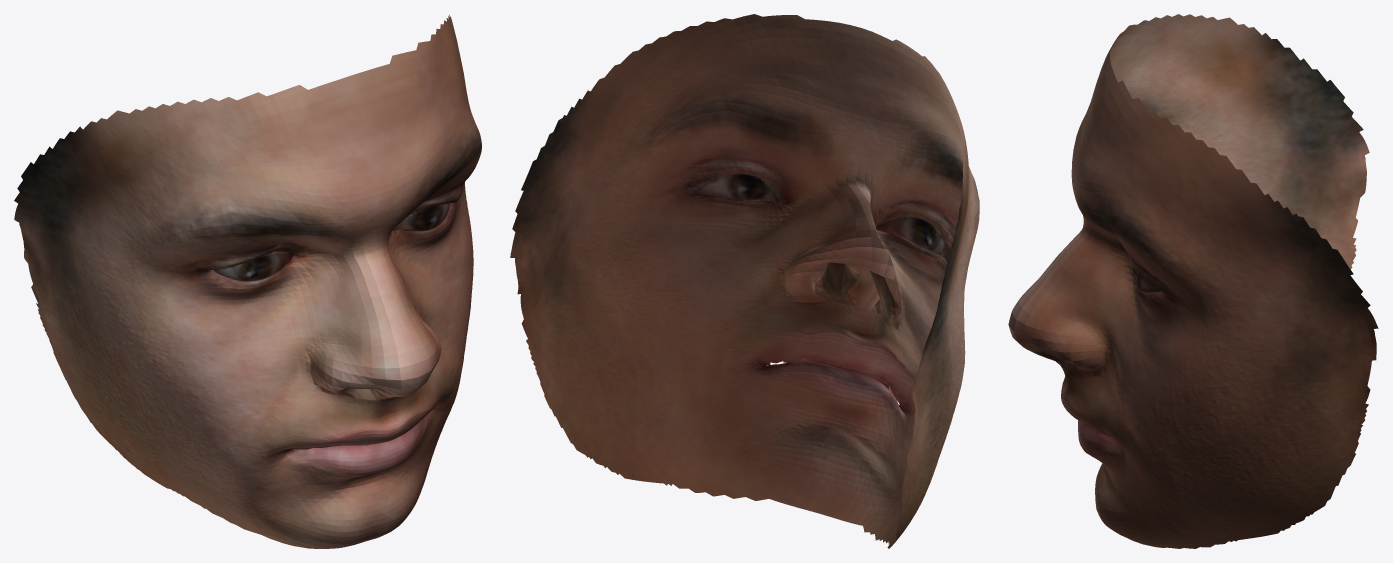
File: hassan_mm.obj
3 views of the same model, side by side, from view 1: azimuth 30°, elevation 25°; view 2: azimuth 150°, elevation 25°; view 3: azimuth 270°, elevation 25° (orthographic). The views are drawn at different scales.
Bounding box in the file's own units: 1.47 × 1.66 × 1.19.
